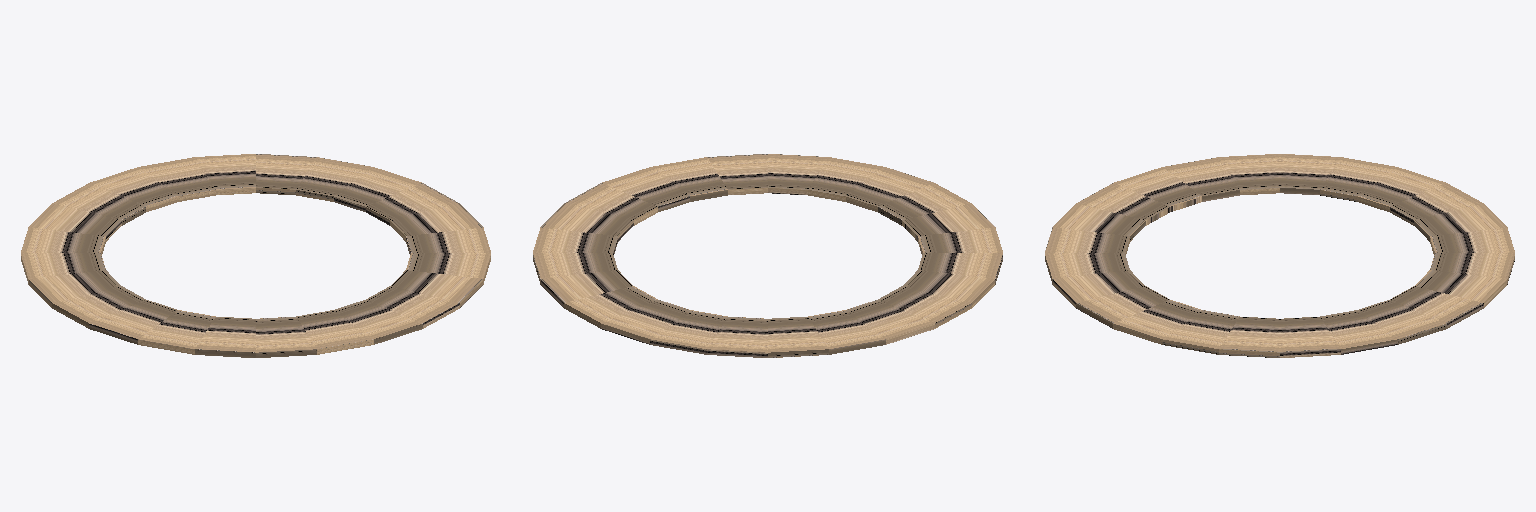
The picture shows the model from 3 angles: view 1: azimuth 30°, elevation 25°; view 2: azimuth 150°, elevation 25°; view 3: azimuth 270°, elevation 25°; orthographic projection.
Parts seen in each view (by area): view 1: Circle; view 2: Circle; view 3: Circle.
Boxes of the visible parts, <box> form: Circle: <box>21,154,490,357</box>; Circle: <box>533,154,1002,357</box>; Circle: <box>1045,154,1514,357</box>.
Bounding box in the file's own units: 6.12 × 0.0812 × 6.12.
Materials: 1 (1 with a texture image).